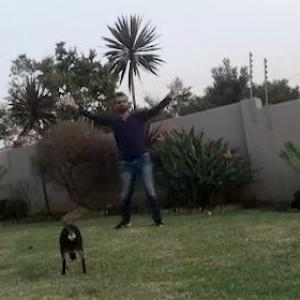takeoff: (54, 87, 172, 222)
